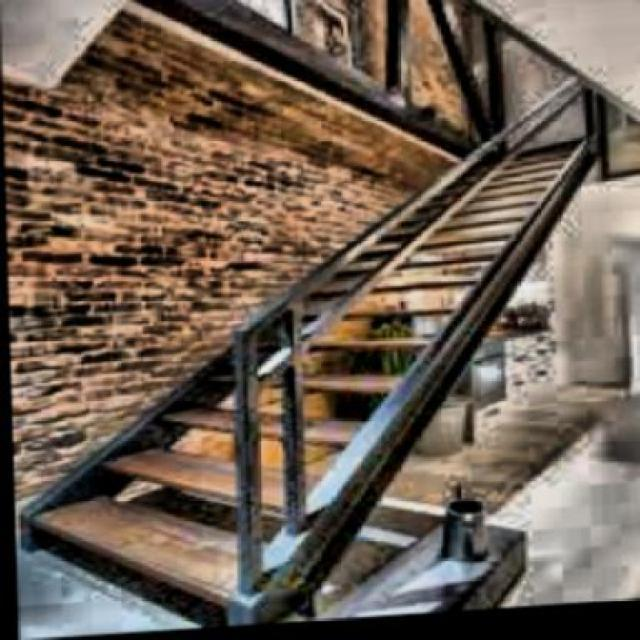stair: (5, 150, 638, 632)
